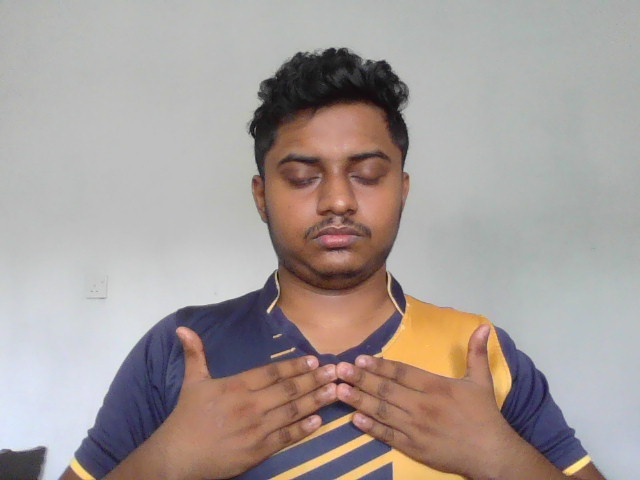Thank You: (166, 325, 517, 480)
